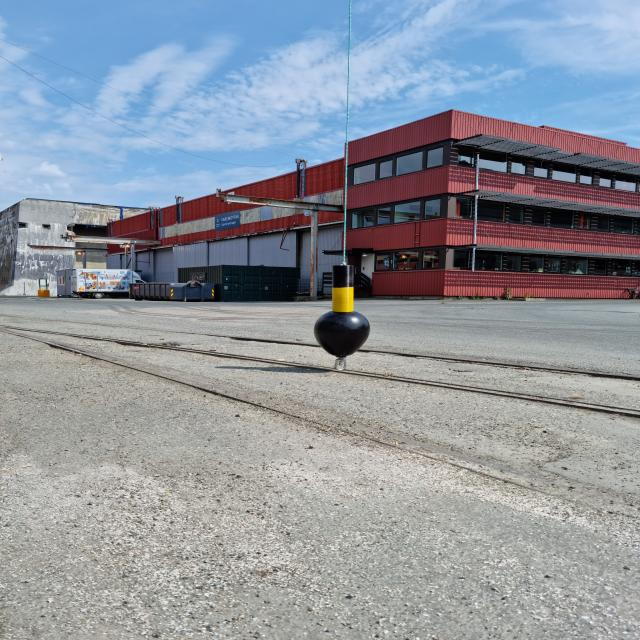east: (313, 265, 371, 357)
